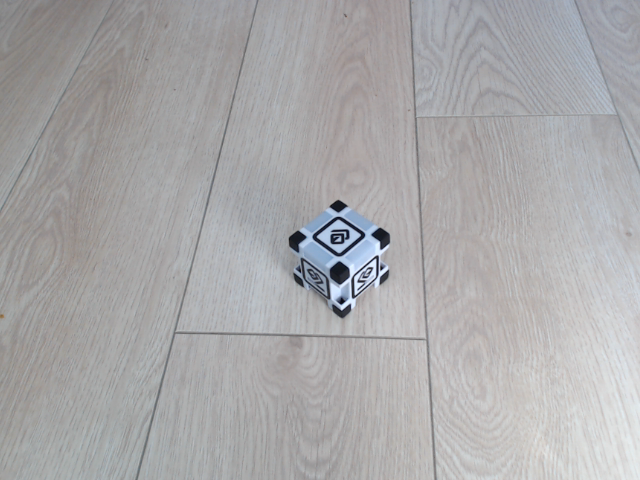block: (281, 194, 403, 323)
